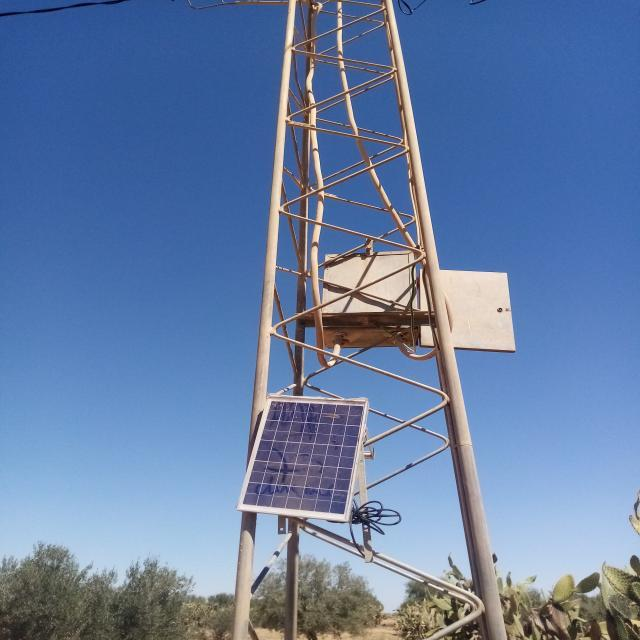faulty: (238, 396, 367, 521)
